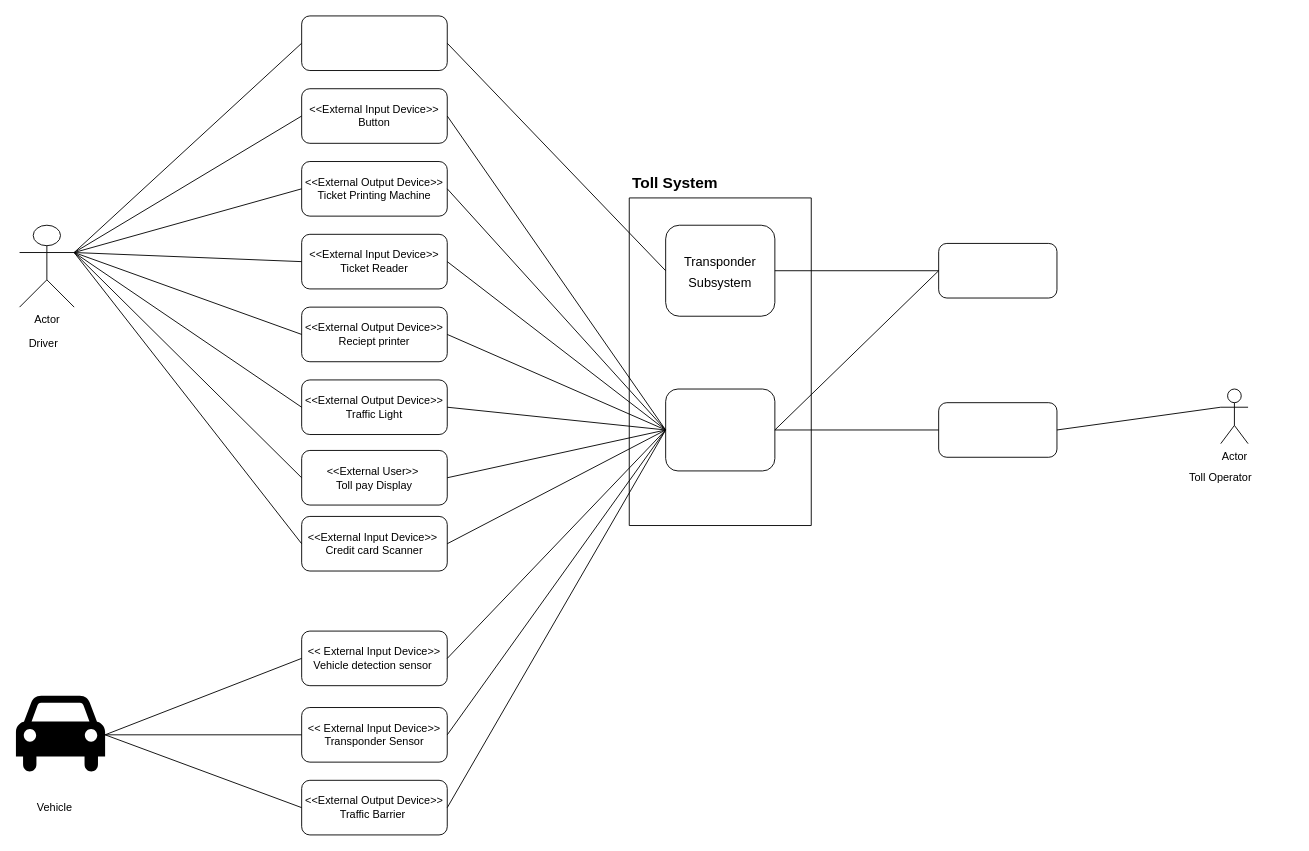
Image size: 1309x851. Some labels were removed from this diagram. Here are the shapes that lost their labels. From the top down, the centre of each, then its label:
the point at 374,43: <<External User>> Device for registration
the point at 997,270: << External System>> Bank
the point at 720,429: Highway Entry/Exit Subsytem
the point at 997,429: << External User >> Display
